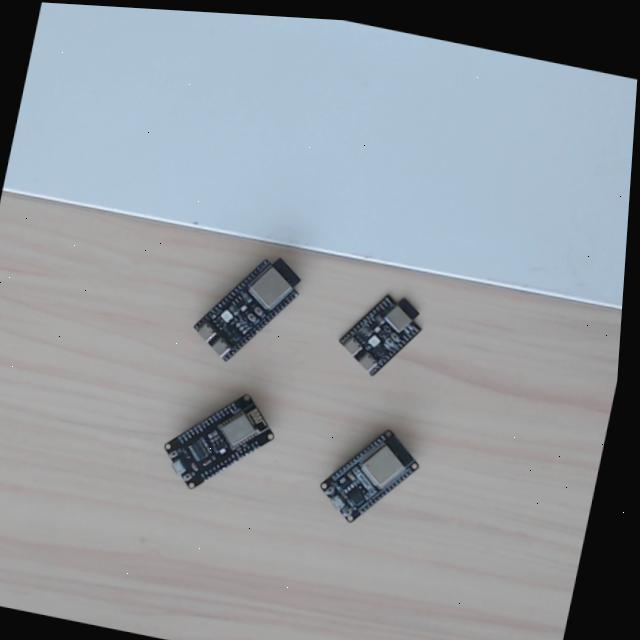ESP32-DevKit: (314, 427, 423, 529)
ESP32C3-DevKit: (335, 284, 433, 381)
ESP32S3-Devkit: (189, 251, 310, 366)
ESP8266-NodeMCU: (157, 391, 278, 495)
